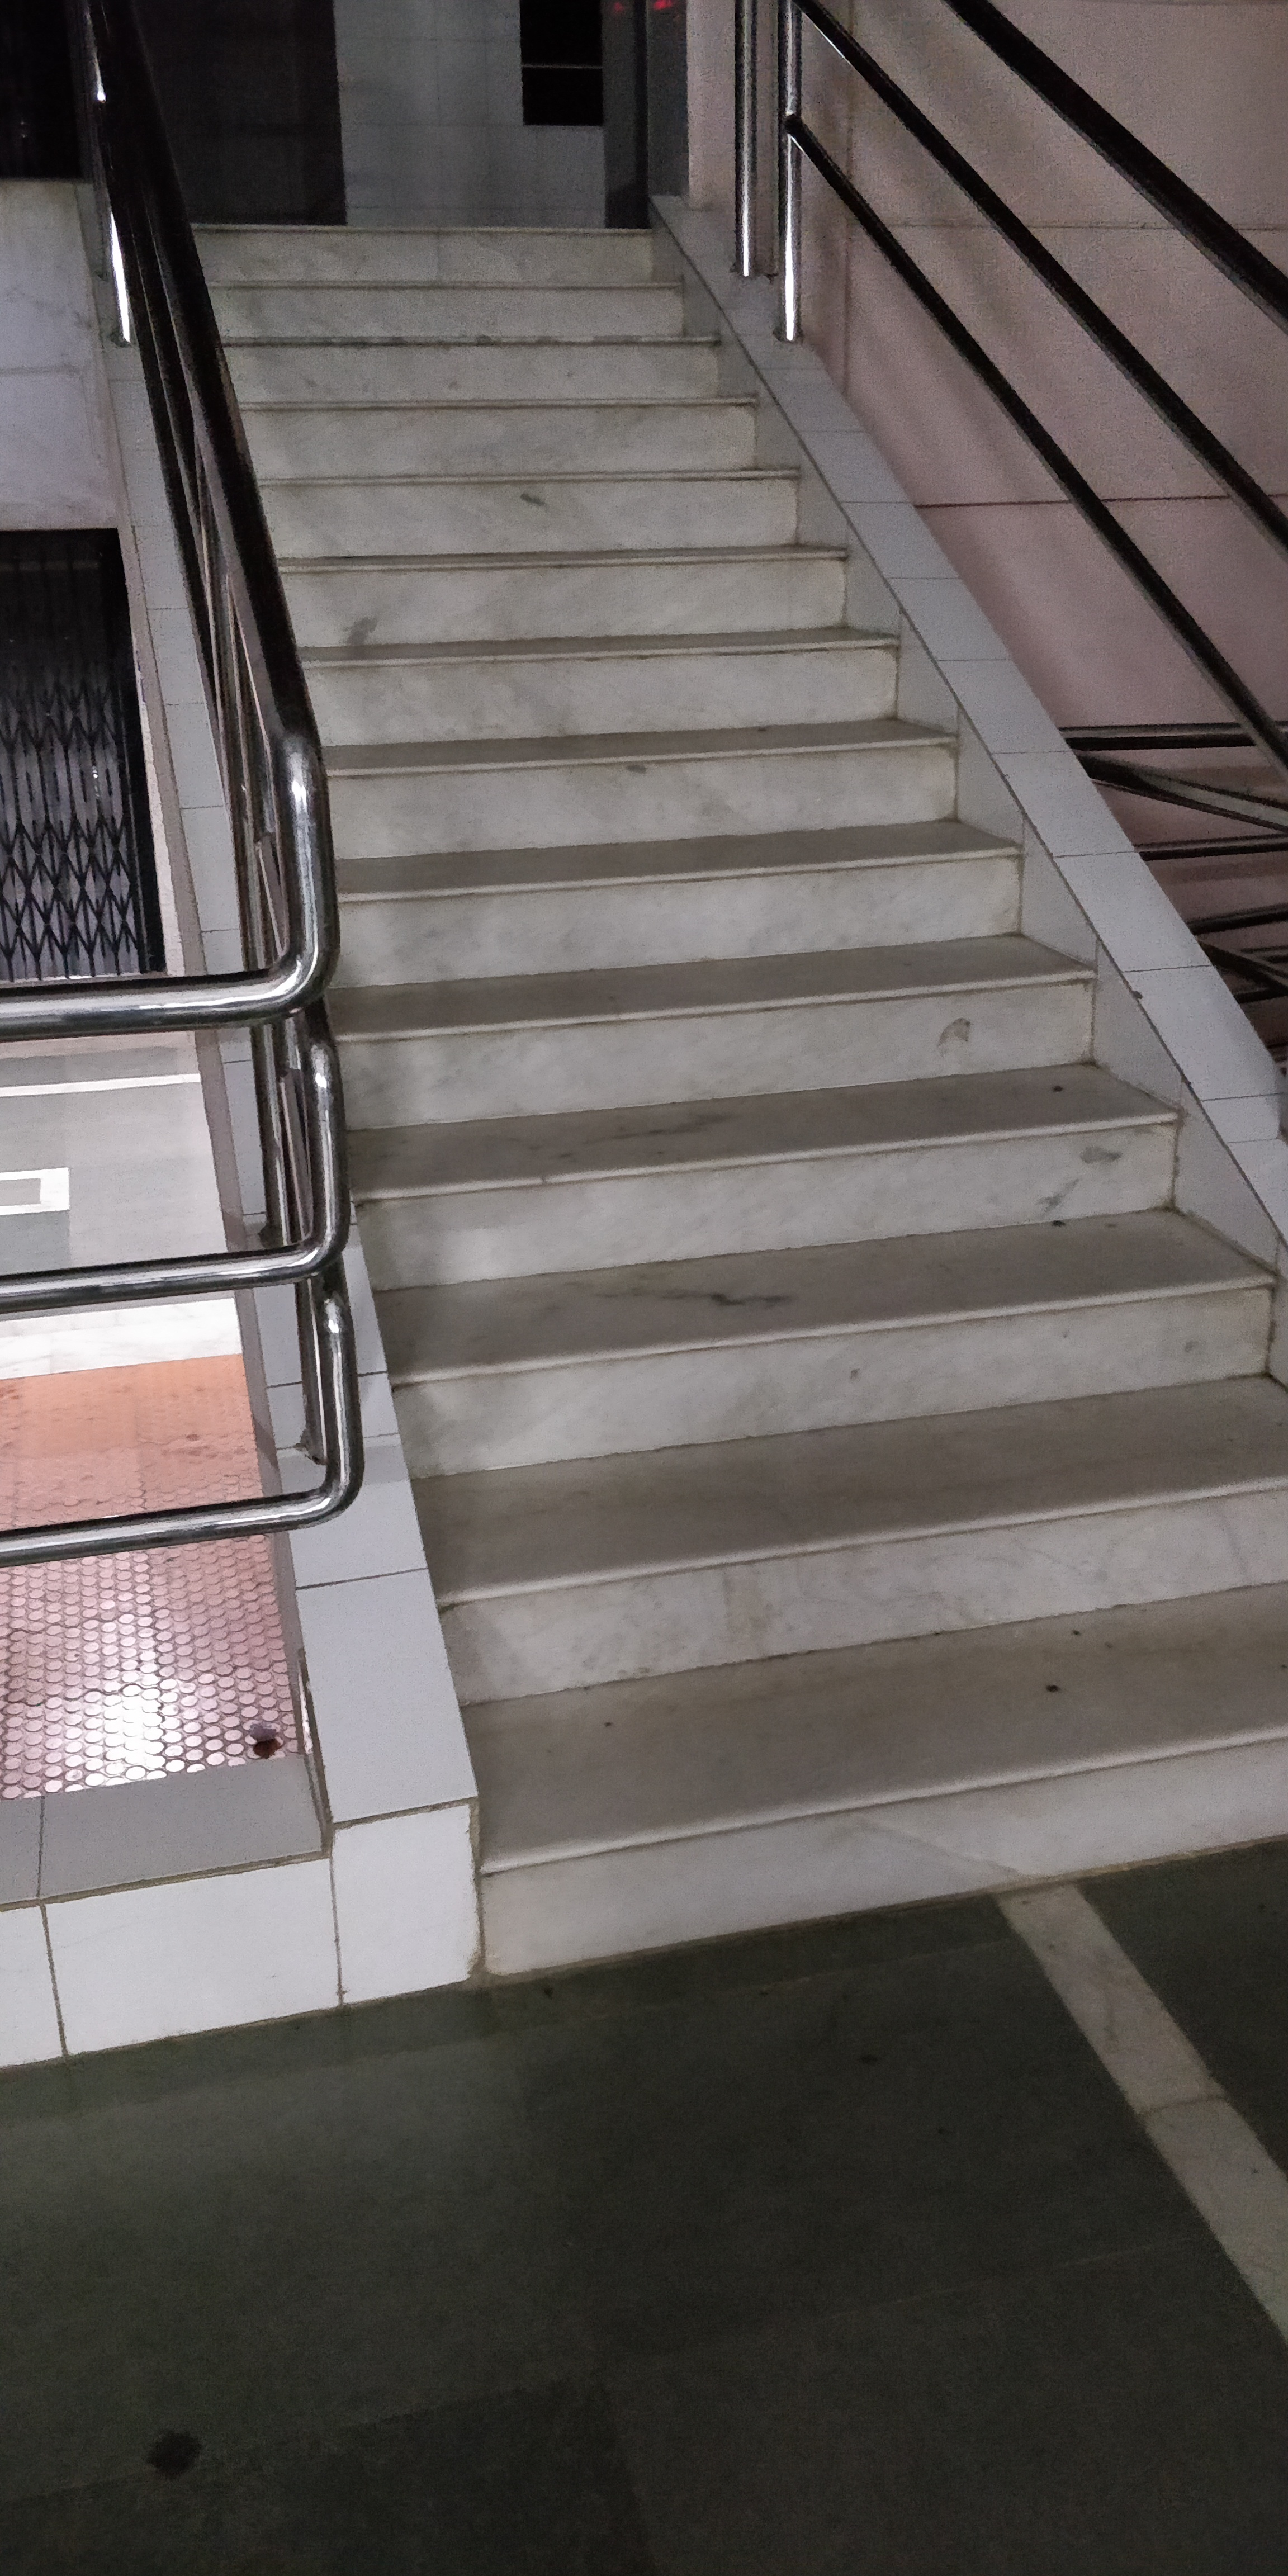stairs_up: (110, 210, 1286, 1991)
